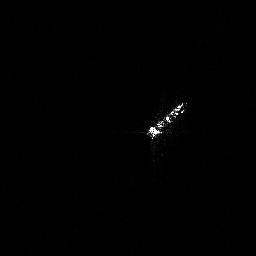ship: (140, 97, 192, 143)
